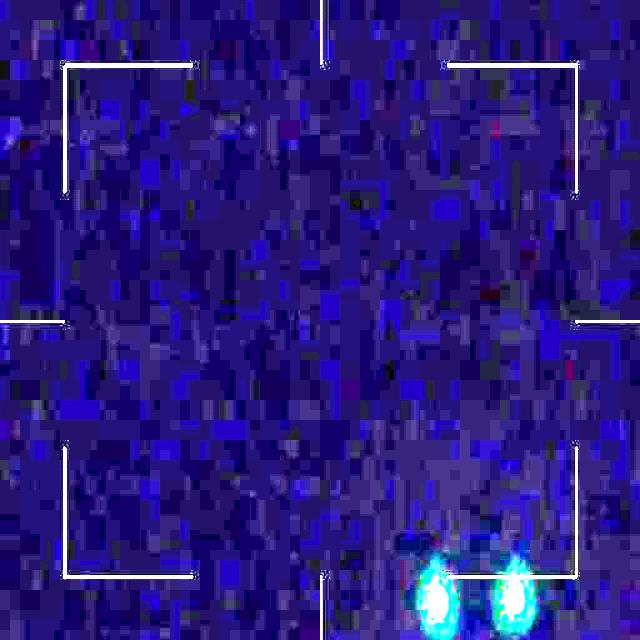bird: (424, 570, 531, 632)
